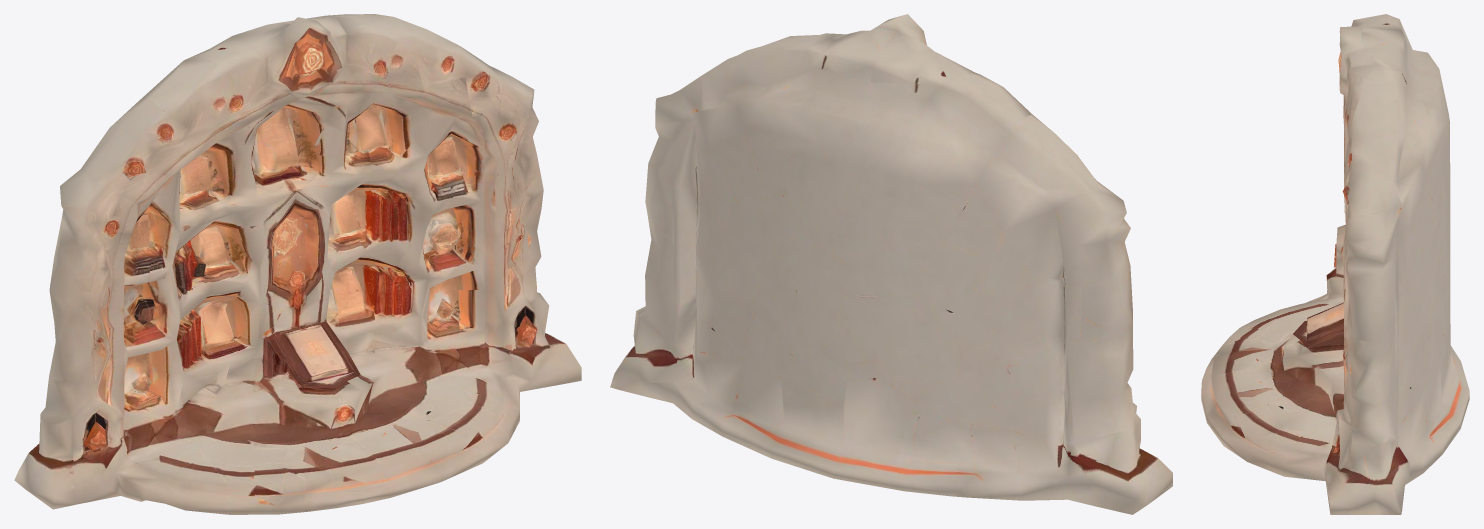
The model's file is thesis-archive.glb.
The picture shows the model from 3 angles, left to right: view 1: azimuth 30°, elevation 25°; view 2: azimuth 150°, elevation 25°; view 3: azimuth 270°, elevation 25°; orthographic projection. The views are drawn at different scales.
Visible parts, largest first — view 1: Mesh_0.001; view 2: Mesh_0.001; view 3: Mesh_0.001.
Boxes of the visible parts, x1=… form: Mesh_0.001: x1=14, y1=14, x2=581, y2=514; Mesh_0.001: x1=610, y1=14, x2=1172, y2=514; Mesh_0.001: x1=1201, y1=14, x2=1469, y2=514.
Size of the model in its own units: 0.7939 by 0.5979 by 0.3911.
1 material, 1 textured.
